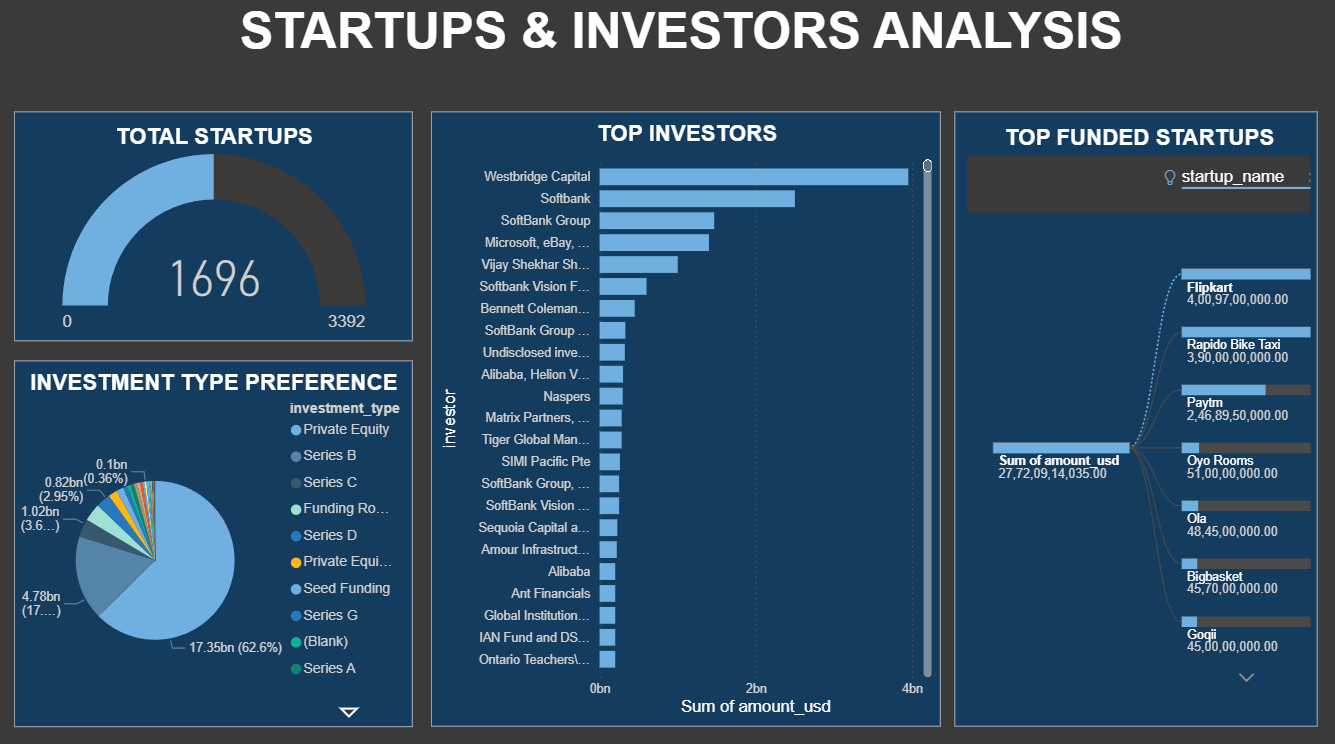

The dashboard page shown, as its layout file describes it:
{"tool":"powerbi","page":{"name":"Investor Trend","canvas":[1280,720],"ordinal":1},"visuals":[{"type":"decompositionTreeVisual","title":"TOP FUNDED STARTUPS","fields":{"ExplainBy":["public startup_fundings_new.startup_name"],"Analyze":["public startup_fundings_new.amount_usd"]},"box":[915.7,110.6,346.5,587.2],"z":0},{"type":"pieChart","title":"INVESTMENT TYPE PREFERENCE","fields":{"Category":["public startup_fundings_new.investment_type"],"Y":["public startup_fundings_new.amount_usd"]},"box":[17.9,348.1,380.6,349.7],"z":1000},{"type":"clusteredBarChart","title":"TOP INVESTORS","fields":{"Category":["public startup_fundings_new.investor"],"Y":["public startup_fundings_new.amount_usd"]},"box":[414.8,110.6,486.3,587.2],"z":2000},{"type":"gauge","title":"TOTAL STARTUPS","fields":{"Y":["public startup_fundings_new.startup_name"]},"box":[17.9,110.6,380.6,219.6],"z":3000},{"type":"textbox","box":[66.7,0,1174.4,79.7],"z":4000}]}

Visuals, with their boxes in screenshot pixels (x1, y1, x2, y2), scaled from the page's 1280x720 canvas onto the 1335x744 screenshot:
"TOP FUNDED STARTUPS" decompositionTreeVisual: {"left": 955, "top": 114, "right": 1316, "bottom": 721}
"INVESTMENT TYPE PREFERENCE" pieChart: {"left": 19, "top": 360, "right": 416, "bottom": 721}
"TOP INVESTORS" clusteredBarChart: {"left": 433, "top": 114, "right": 940, "bottom": 721}
"TOTAL STARTUPS" gauge: {"left": 19, "top": 114, "right": 416, "bottom": 341}
textbox: {"left": 70, "top": 0, "right": 1294, "bottom": 82}
